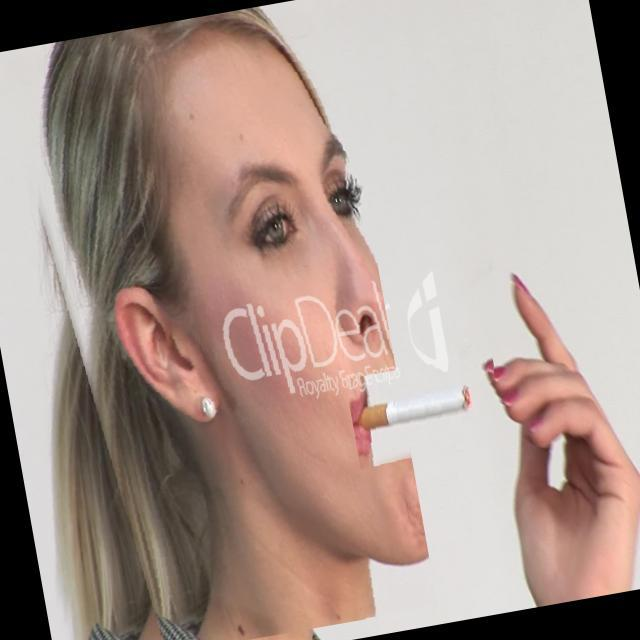cigarette: (344, 352, 508, 470)
